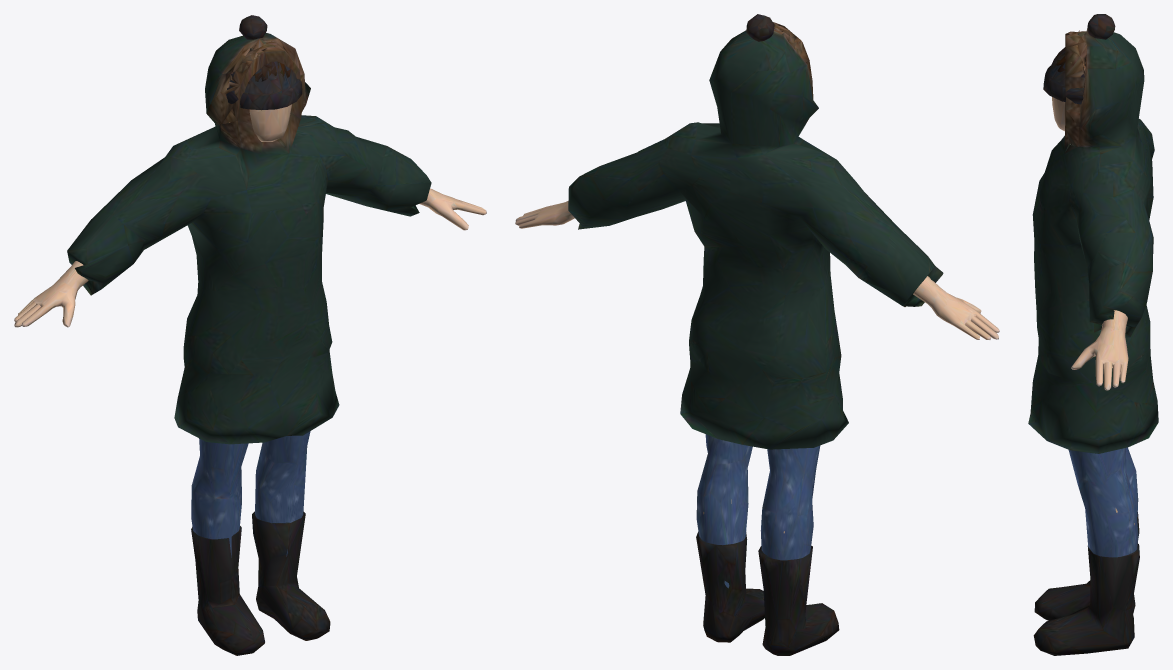
File: npc_x_man_w2.glb
3 renders of one model, left to right at view 1: azimuth 30°, elevation 25°; view 2: azimuth 150°, elevation 25°; view 3: azimuth 270°, elevation 25°, orthographic. The views are drawn at different scales.
Visible parts, largest first — view 1: Human; view 2: Human; view 3: Human.
Part boxes in pixels (x1,y1,x2,y2): Human: [14, 15, 486, 655]; Human: [515, 14, 999, 655]; Human: [1028, 14, 1158, 655].
Size of the model in its own units: 1.54 by 1.9 by 0.3637.
1 material, 1 textured.
